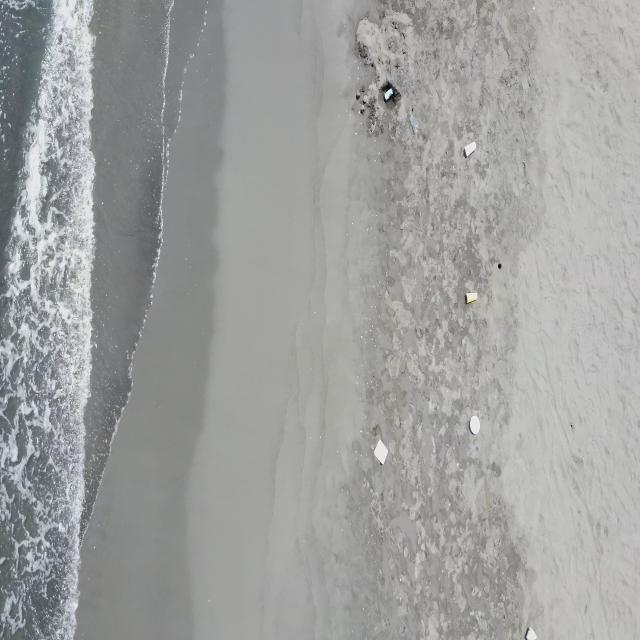take-away-containers: (374, 439, 388, 465), (470, 415, 480, 436), (525, 626, 536, 640)
takeaway-cup: (409, 113, 420, 134), (465, 141, 476, 158), (465, 291, 478, 304), (384, 87, 393, 101)
